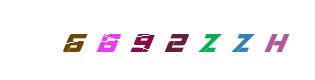2: (145, 0, 225, 80)
6: (68, 0, 148, 80)
9: (116, 0, 196, 80)
B: (91, 0, 171, 80)
H: (210, 0, 290, 80)
Z: (170, 0, 250, 80), (201, 0, 281, 80)
